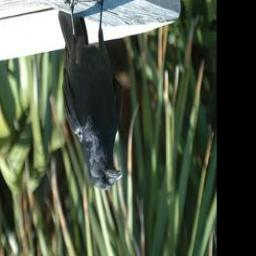Crow: (58, 0, 123, 191)
